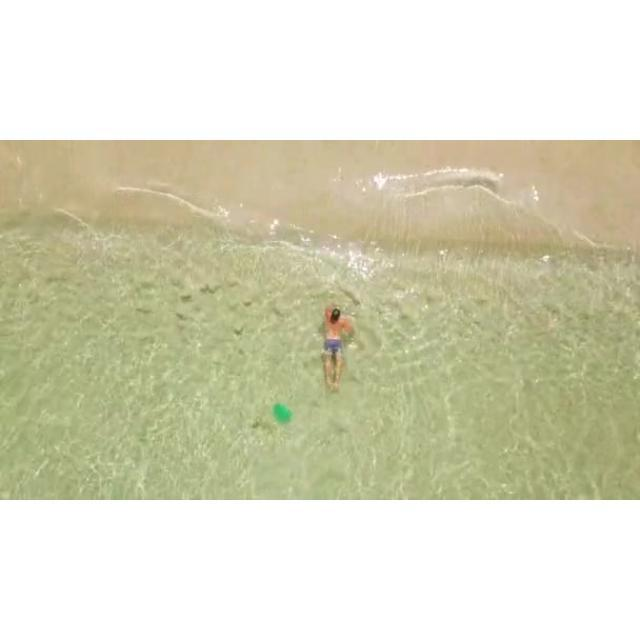human: (322, 306, 351, 393)
